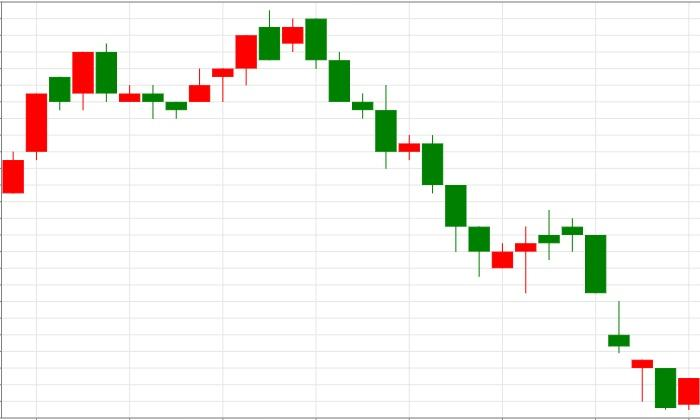bearish_engulfing_fall: (165, 9, 328, 118)
